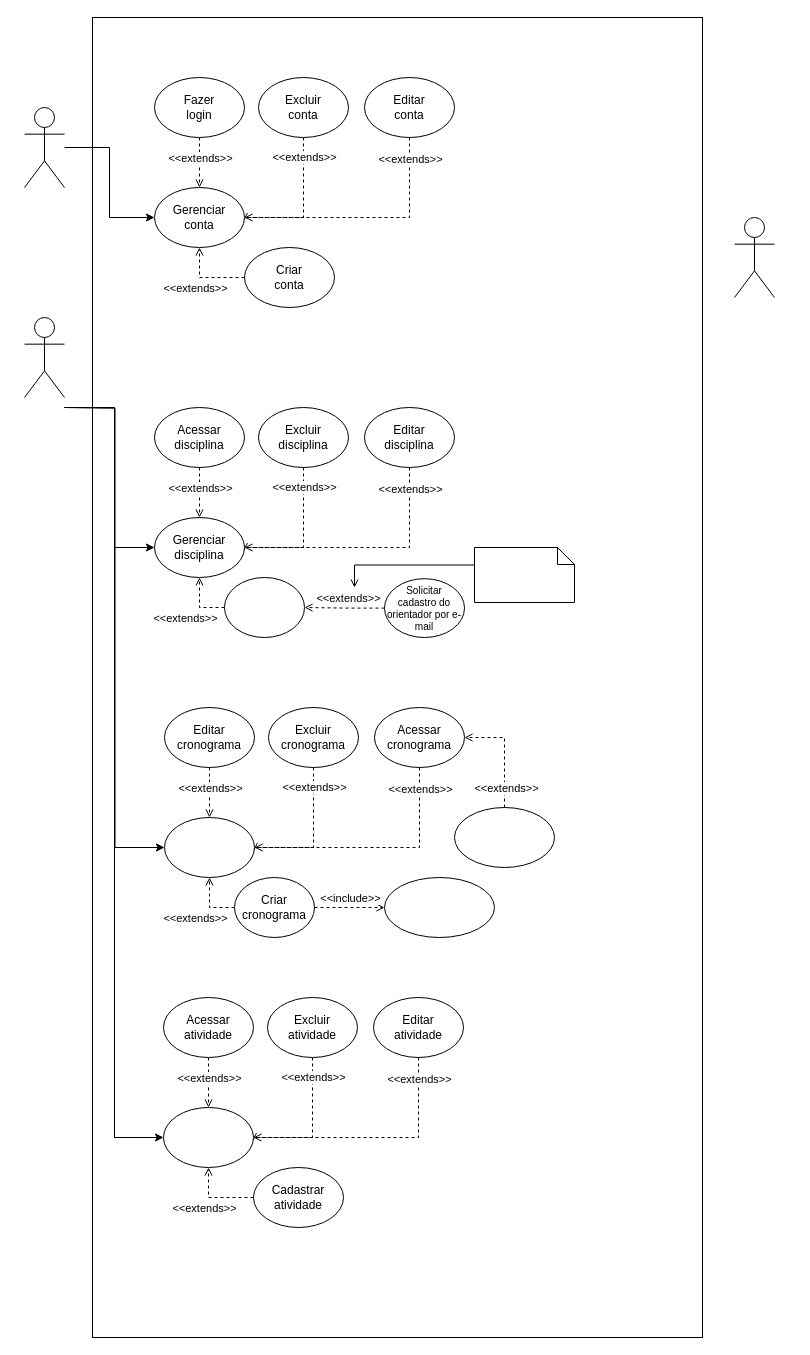
The diagram is 810 pixels wide and 1355 high, and some of its shapes have lost their labels. Here are the shapes that lost their labels. From the top down, the box of each, then its label:
(24, 106, 64, 188): Usuário
(734, 216, 774, 298): Orientador
(24, 316, 64, 398): Aluno
(474, 546, 574, 602): Se o orientador da disciplina não estiver cadastrado
(224, 576, 304, 638): Cadastrar disciplina
(164, 816, 254, 878): Gerenciar cronograma
(454, 806, 554, 868): Enviar dúvida para orientador
(384, 876, 494, 938): Definir horários disponíveis
(162, 1106, 254, 1168): Gerenciar atividade
